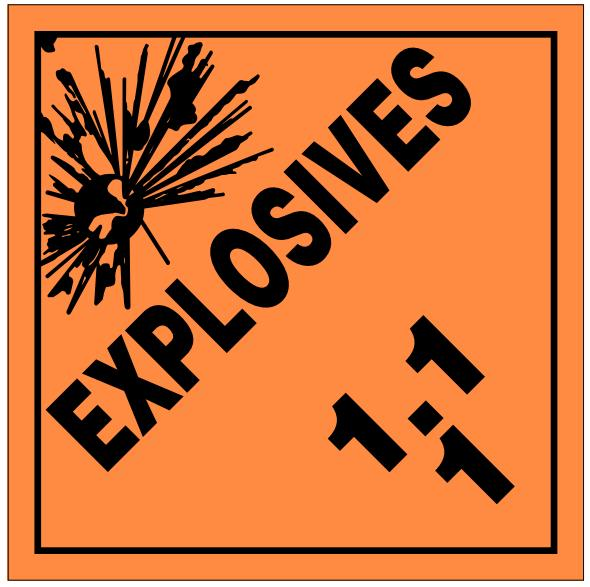explosive: (1, 1, 590, 587)
